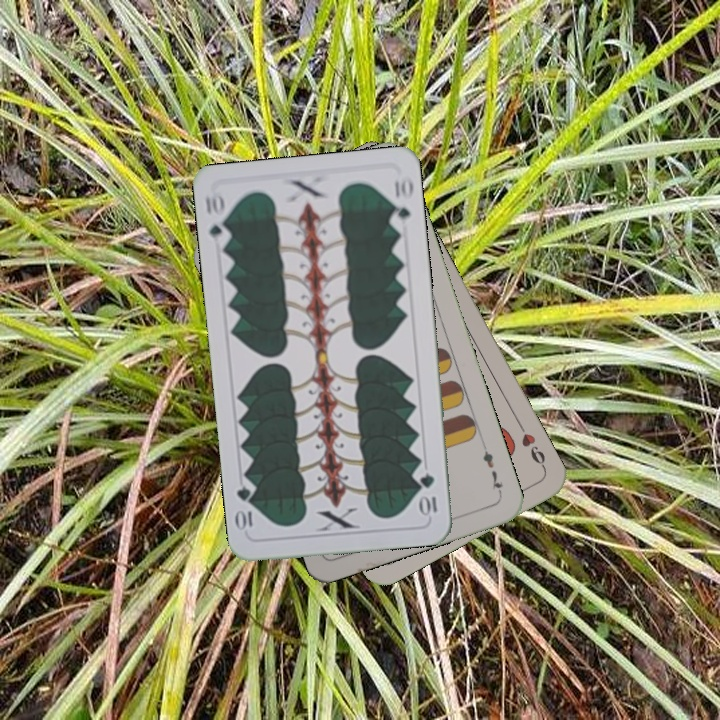E7: (478, 440, 506, 498)
G10: (201, 189, 232, 249), (415, 469, 440, 519)
H9: (513, 418, 549, 472)
